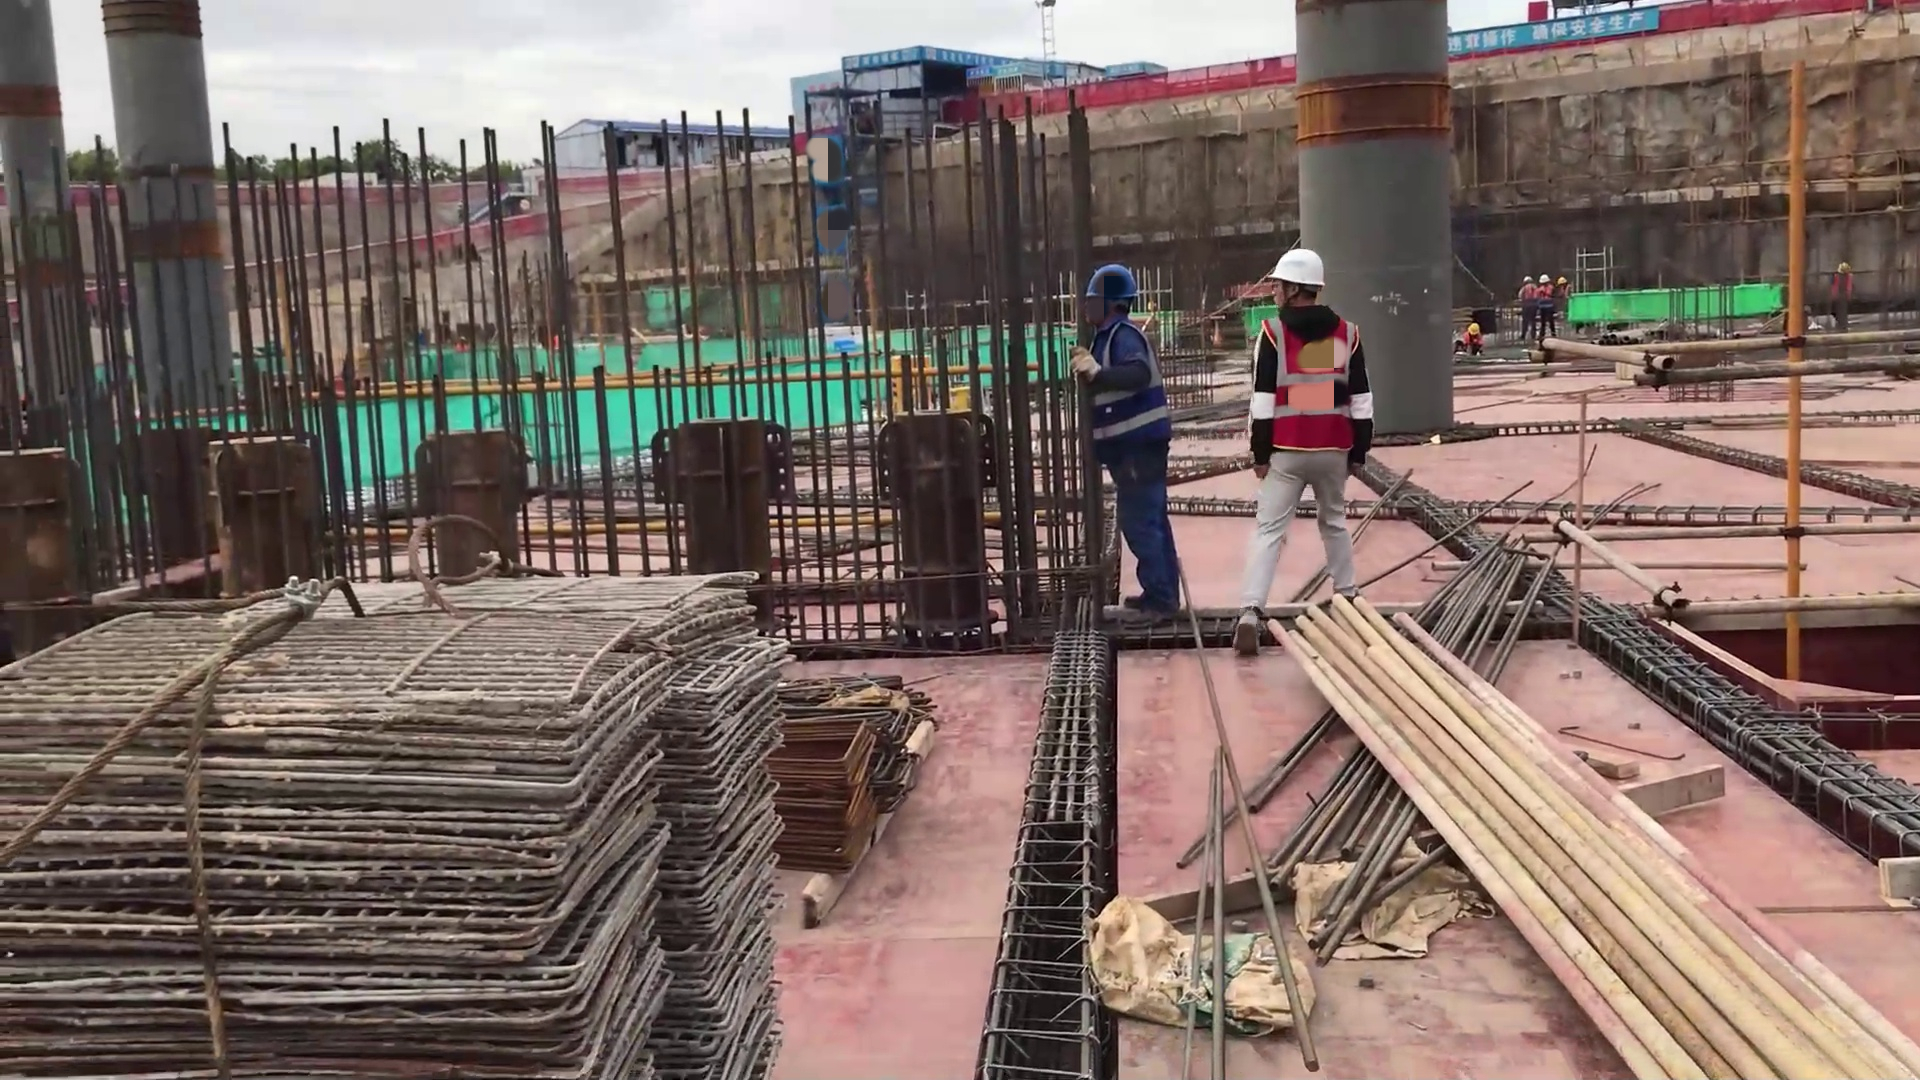helmet: (1265, 249, 1327, 285), (1083, 264, 1139, 300), (1467, 323, 1480, 334), (1838, 262, 1852, 273), (1539, 275, 1550, 284), (1558, 277, 1568, 285), (1523, 276, 1535, 282)
person: (1231, 243, 1376, 657), (1068, 264, 1183, 632), (1830, 261, 1856, 330), (1518, 275, 1538, 342), (1538, 274, 1555, 341), (1453, 322, 1485, 357), (1557, 276, 1574, 297)
vest: (1263, 319, 1356, 451), (1091, 327, 1173, 457), (1829, 273, 1853, 295), (1539, 285, 1555, 311), (1523, 284, 1538, 311), (1465, 332, 1484, 345)
